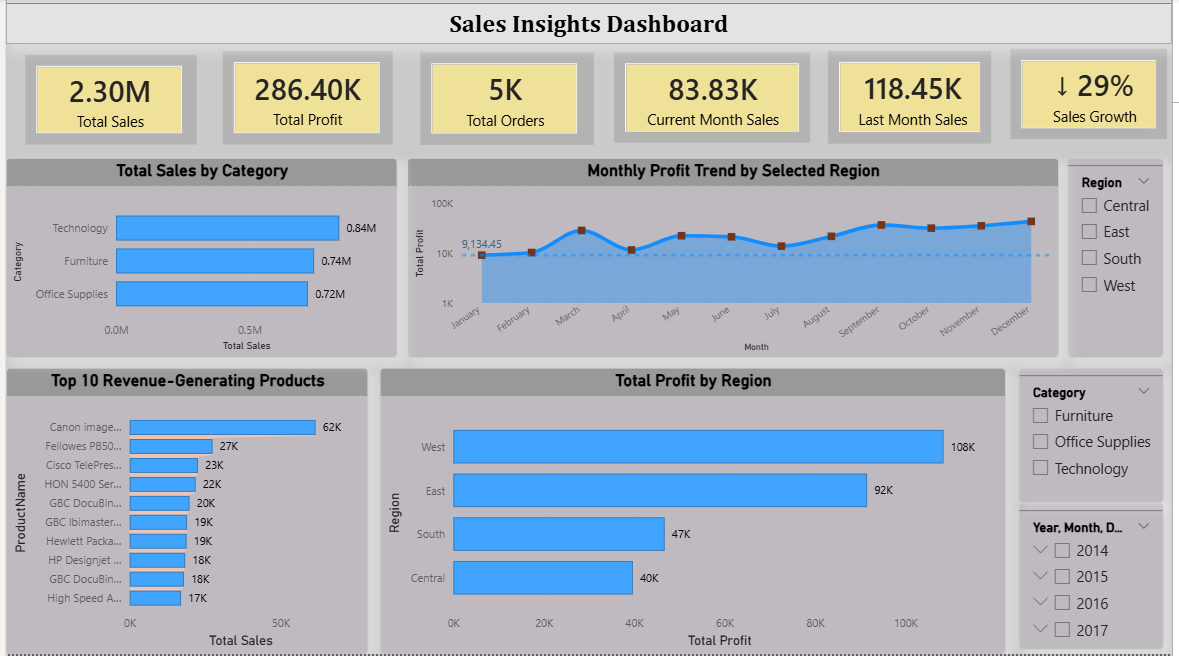

This screenshot's page, from the dashboard's own definition file:
{"tool":"powerbi","page":{"name":"Page 1","canvas":[1280,720],"ordinal":0},"visuals":[{"type":"cardVisual","fields":{"Data":["Orders.Total Sales"]},"box":[16.5,57.6,199,108.4],"z":0},{"type":"cardVisual","fields":{"Data":["Orders.Total Profit"]},"box":[233.3,53.5,196.2,112.5],"z":1000},{"type":"cardVisual","fields":{"Data":["Orders.Current Month Sales"]},"box":[662.8,54.9,225,109.8],"z":2000},{"type":"cardVisual","fields":{"Data":["Orders.Total Orders"]},"box":[450.1,54.9,200.3,111.1],"z":3000},{"type":"cardVisual","fields":{"Data":["Orders.Last Month Sales"]},"box":[897.4,53.5,189.4,111.1],"z":4000},{"type":"cardVisual","fields":{"Data":["Orders.Growth Indicator"]},"box":[1097.8,50.8,182.5,109.8],"z":5000},{"type":"barChart","title":"Top 10 Revenue-Generating Products ","fields":{"Category":["Orders.ProductName"],"Y":["Orders.Total Sales"]},"box":[0,406.2,397.9,314.2],"z":6000},{"type":"slicer","fields":{"Values":["Orders.Region"]},"box":[1165,175.6,105.7,219.6],"z":8000},{"type":"slicer","fields":{"Values":["Orders.Category"]},"box":[1111.5,406.2,159.2,148.2],"z":9000},{"type":"textbox","box":[0,0,1280.3,50.8],"z":10000},{"type":"lineChart","title":"Monthly Profit Trend by Selected Region","fields":{"Category":["Orders.OrderDate.Variation.Date Hierarchy.Month"],"Y":["Orders.Total Profit"]},"box":[440.5,175.6,714.9,219.6],"z":11000},{"type":"clusteredBarChart","fields":{"Category":["Orders.Category"],"Y":["Orders.Total Sales"]},"box":[0,175.6,429.5,219.6],"z":12000},{"type":"slicer","fields":{"Values":["Orders.OrderDate.Variation.Date Hierarchy.Year","Orders.OrderDate.Variation.Date Hierarchy.Month","Orders.OrderDate.Variation.Date Hierarchy.Day"]},"box":[1111.5,554.4,159.2,160.5],"z":13000},{"type":"clusteredBarChart","fields":{"Category":["Orders.Region"],"Y":["Orders.Total Profit"]},"box":[410.3,406.2,687.5,314.2],"z":14000}]}

Visuals, with their boxes in screenshot pixels (x1, y1, x2, y2), scaled from the page's 1280x720 canvas onto the 1179x656 screenshot:
cardVisual - Orders.Total Sales: region(15, 52, 198, 151)
cardVisual - Orders.Total Profit: region(215, 49, 396, 151)
cardVisual - Orders.Current Month Sales: region(611, 50, 818, 150)
cardVisual - Orders.Total Orders: region(415, 50, 599, 151)
cardVisual - Orders.Last Month Sales: region(827, 49, 1001, 150)
cardVisual - Orders.Growth Indicator: region(1011, 46, 1178, 146)
"Top 10 Revenue-Generating Products " barChart: region(0, 370, 367, 655)
slicer - Orders.Region: region(1073, 160, 1170, 360)
slicer - Orders.Category: region(1024, 370, 1170, 505)
textbox: region(0, 0, 1178, 46)
"Monthly Profit Trend by Selected Region" lineChart: region(406, 160, 1064, 360)
clusteredBarChart - Orders.Category x Orders.Total Sales: region(0, 160, 396, 360)
slicer - Orders.OrderDate.Variation.Date Hierarchy.Year x Orders.OrderDate.Variation.Date Hierarchy.Month: region(1024, 505, 1170, 651)
clusteredBarChart - Orders.Region x Orders.Total Profit: region(378, 370, 1011, 655)
